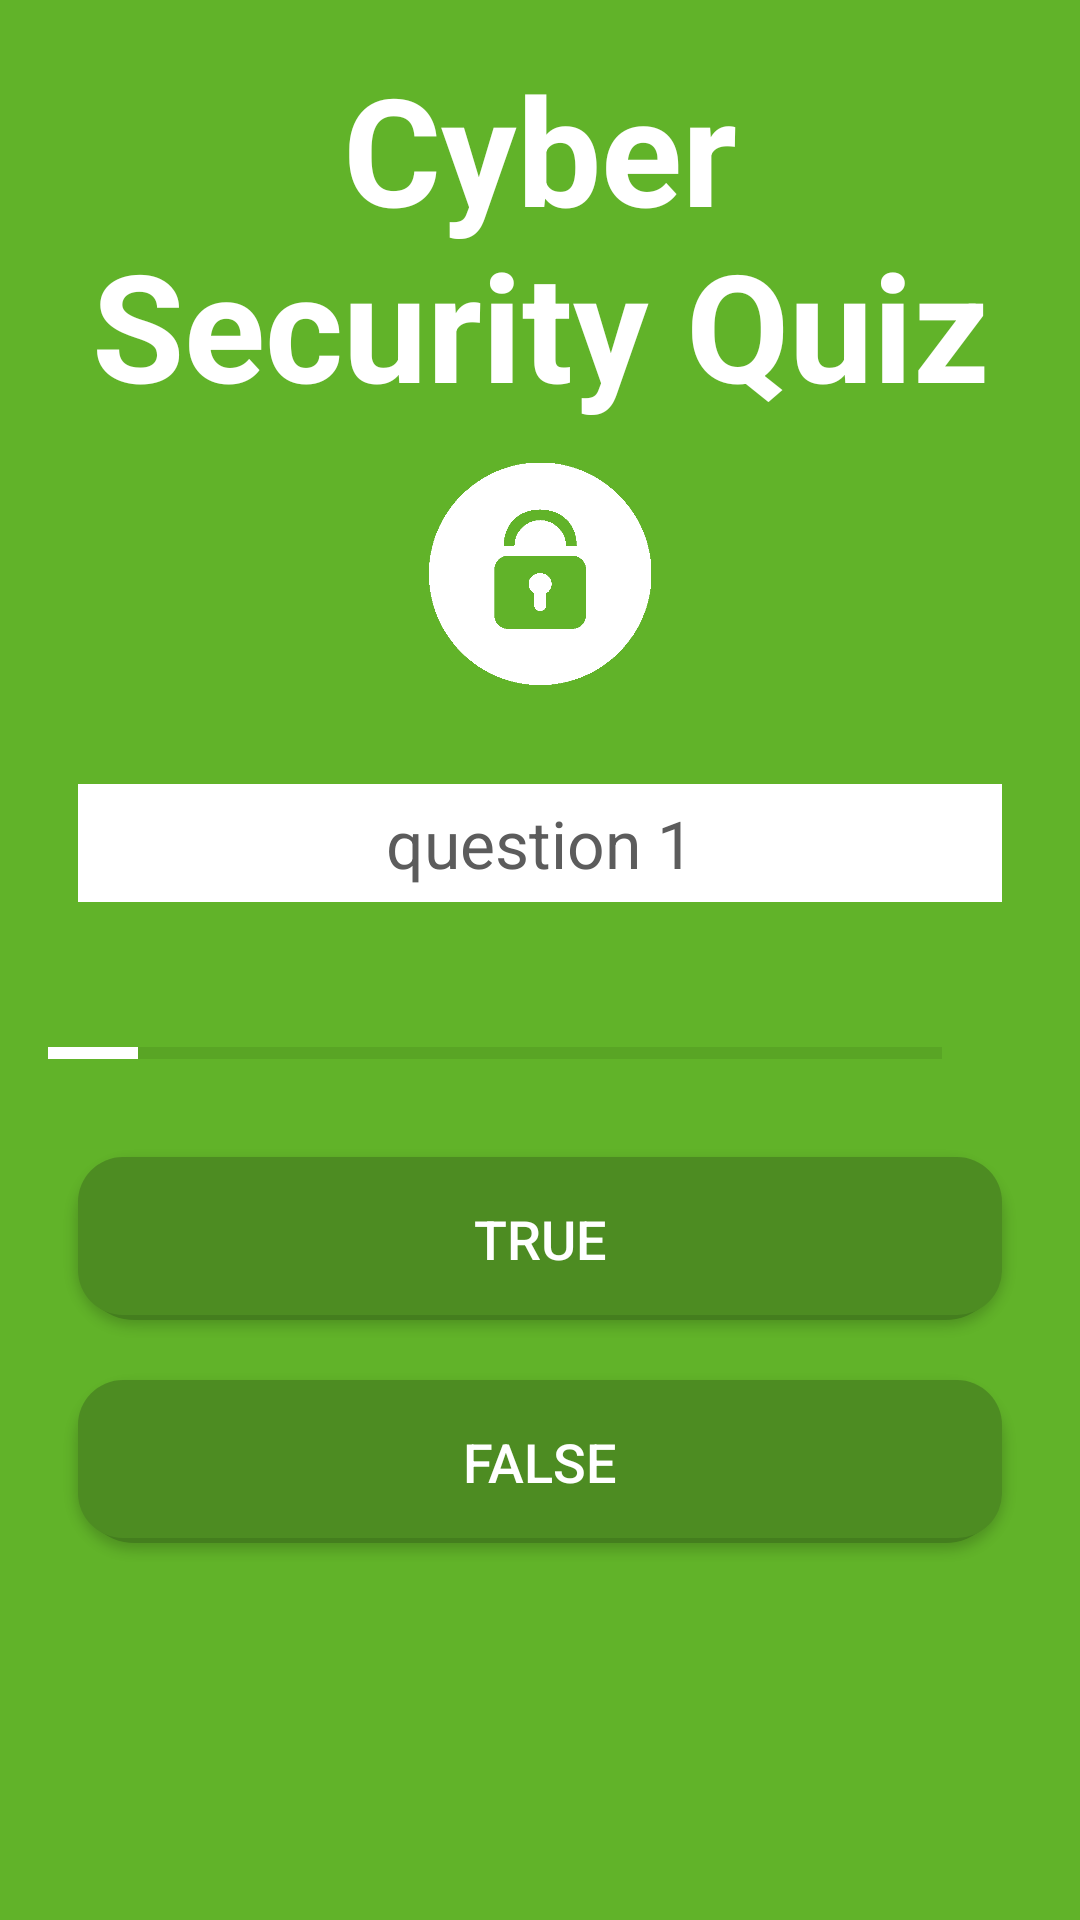

Icons on this 1080px×1920px Android screen, each with its box as box(x1, y1, x2, y2):
lockwhite: box(429, 463, 651, 685)
